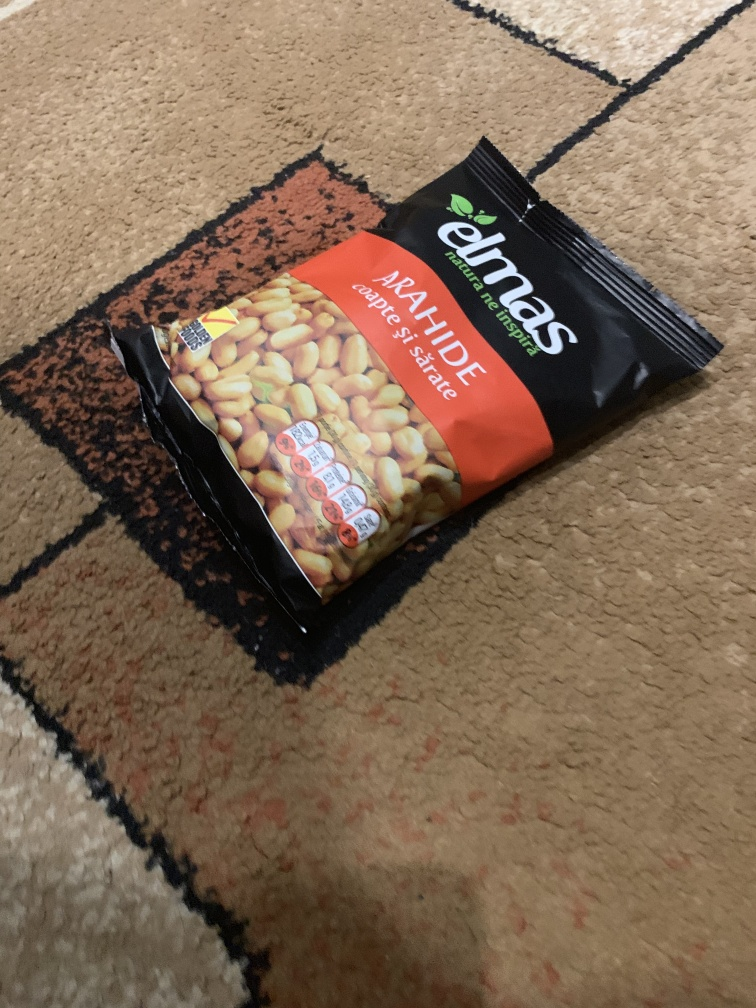peanuts: (109, 131, 725, 673)
